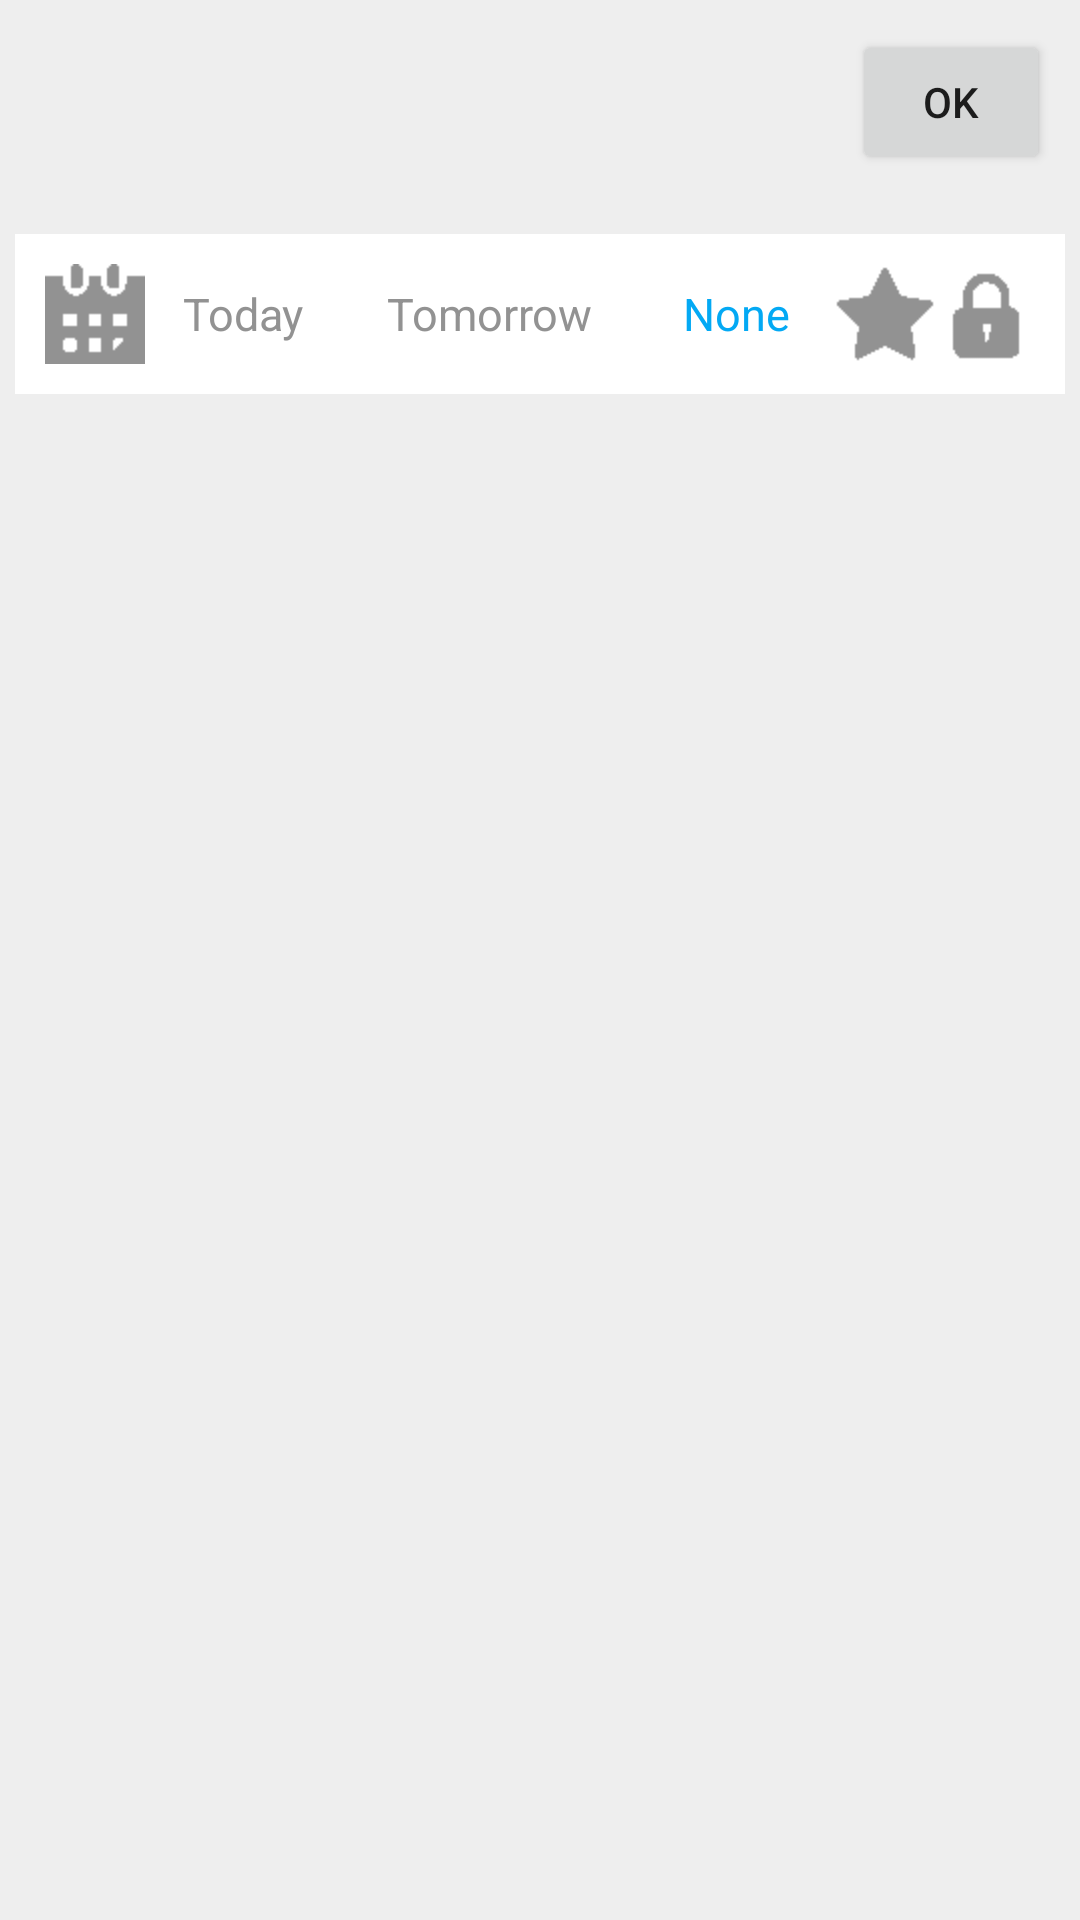

Point at icon controls on the screen. Image size 1080 x 1920, points as (x,y).
calendar: (95,314)
lock: (986,316)
star: (885,313)
